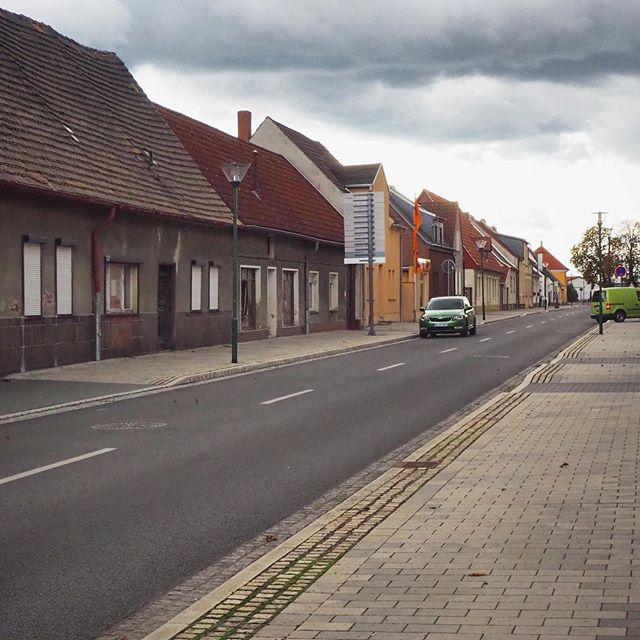building: (1, 27, 209, 357), (182, 125, 349, 333), (300, 136, 401, 322), (398, 194, 465, 318), (456, 217, 503, 313), (507, 234, 541, 309), (531, 247, 573, 306)
car: (416, 290, 480, 341)
sky: (252, 5, 640, 192)
street: (1, 316, 584, 640)
